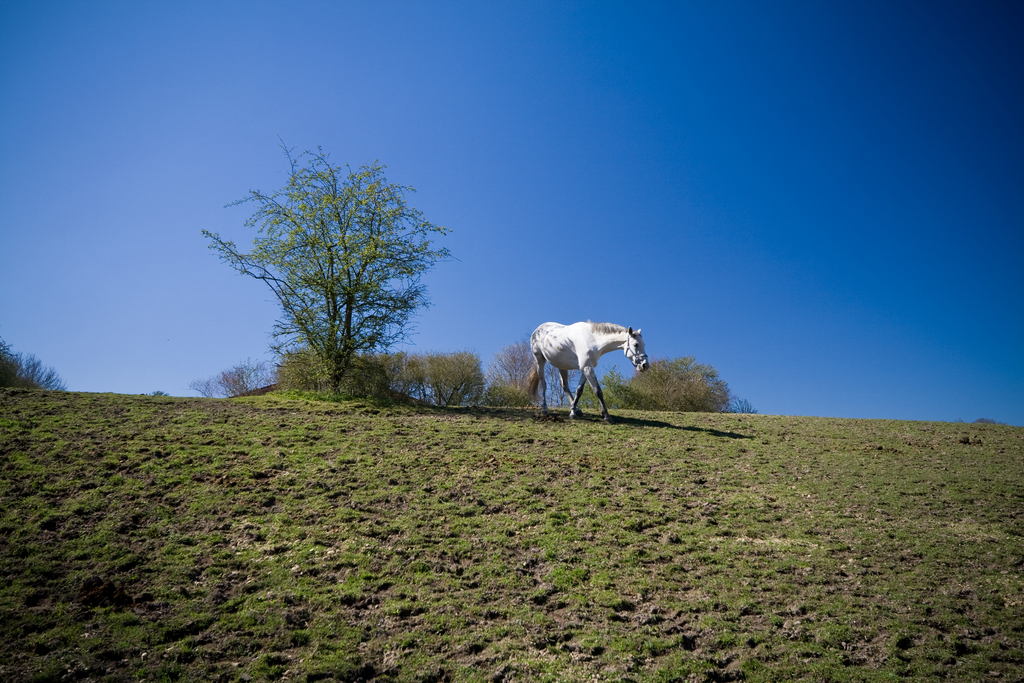horse: (529, 319, 648, 417)
